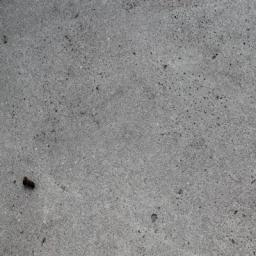FOD: (22, 175, 39, 196)
